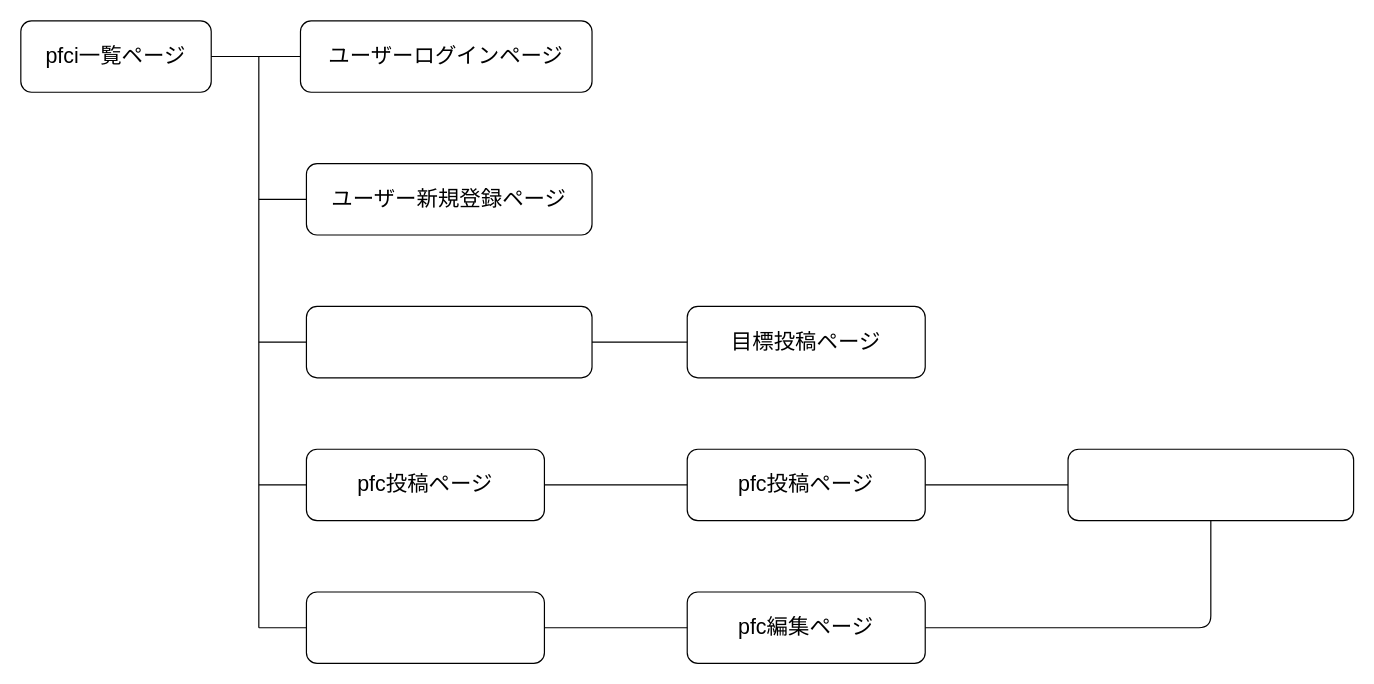
Image size: 1374x684. Some labels were removed from this diagram. Here are the shapes that lost their labels. From the top down, the centre of each, then its label:
the point at 448,341: 目標一覧ページ
the point at 1210,484: 食材・食品登録ページ
the point at 424,627: pfc詳細ページ
